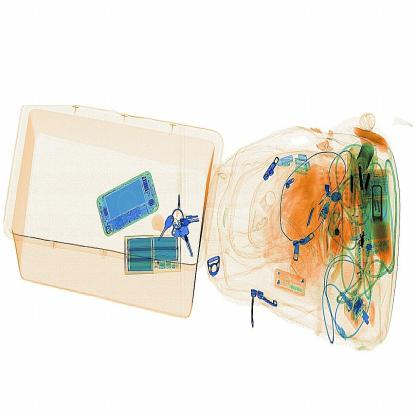pliers: (298, 188, 326, 239)
